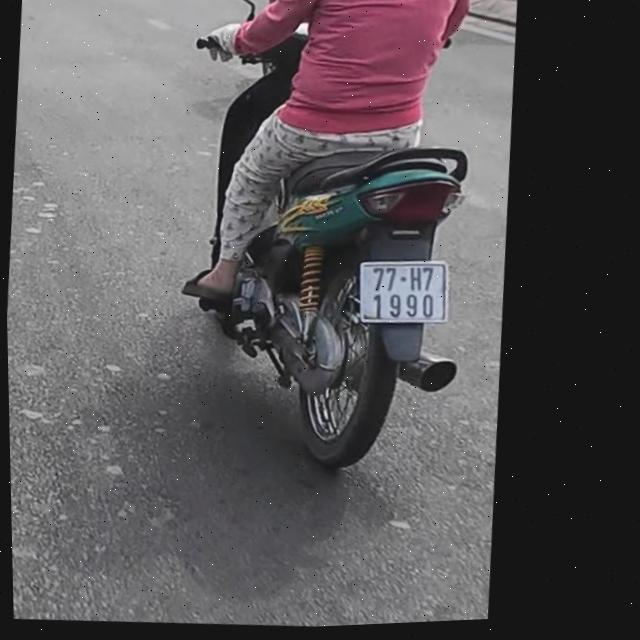motorcycle: (155, 14, 508, 482)
plate: (352, 250, 460, 338)
